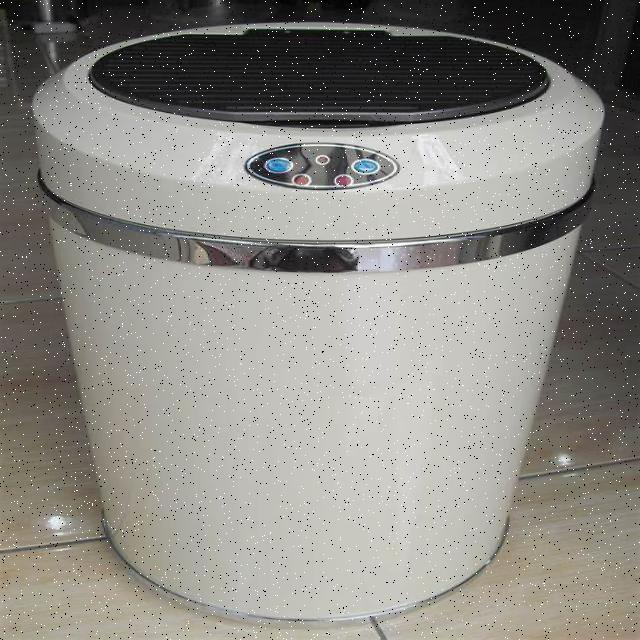garbage container: (25, 17, 640, 628)
